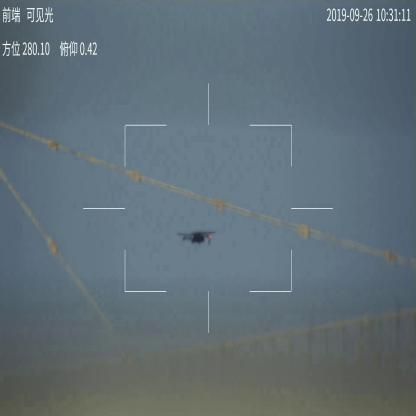uav: (178, 230, 217, 247)
